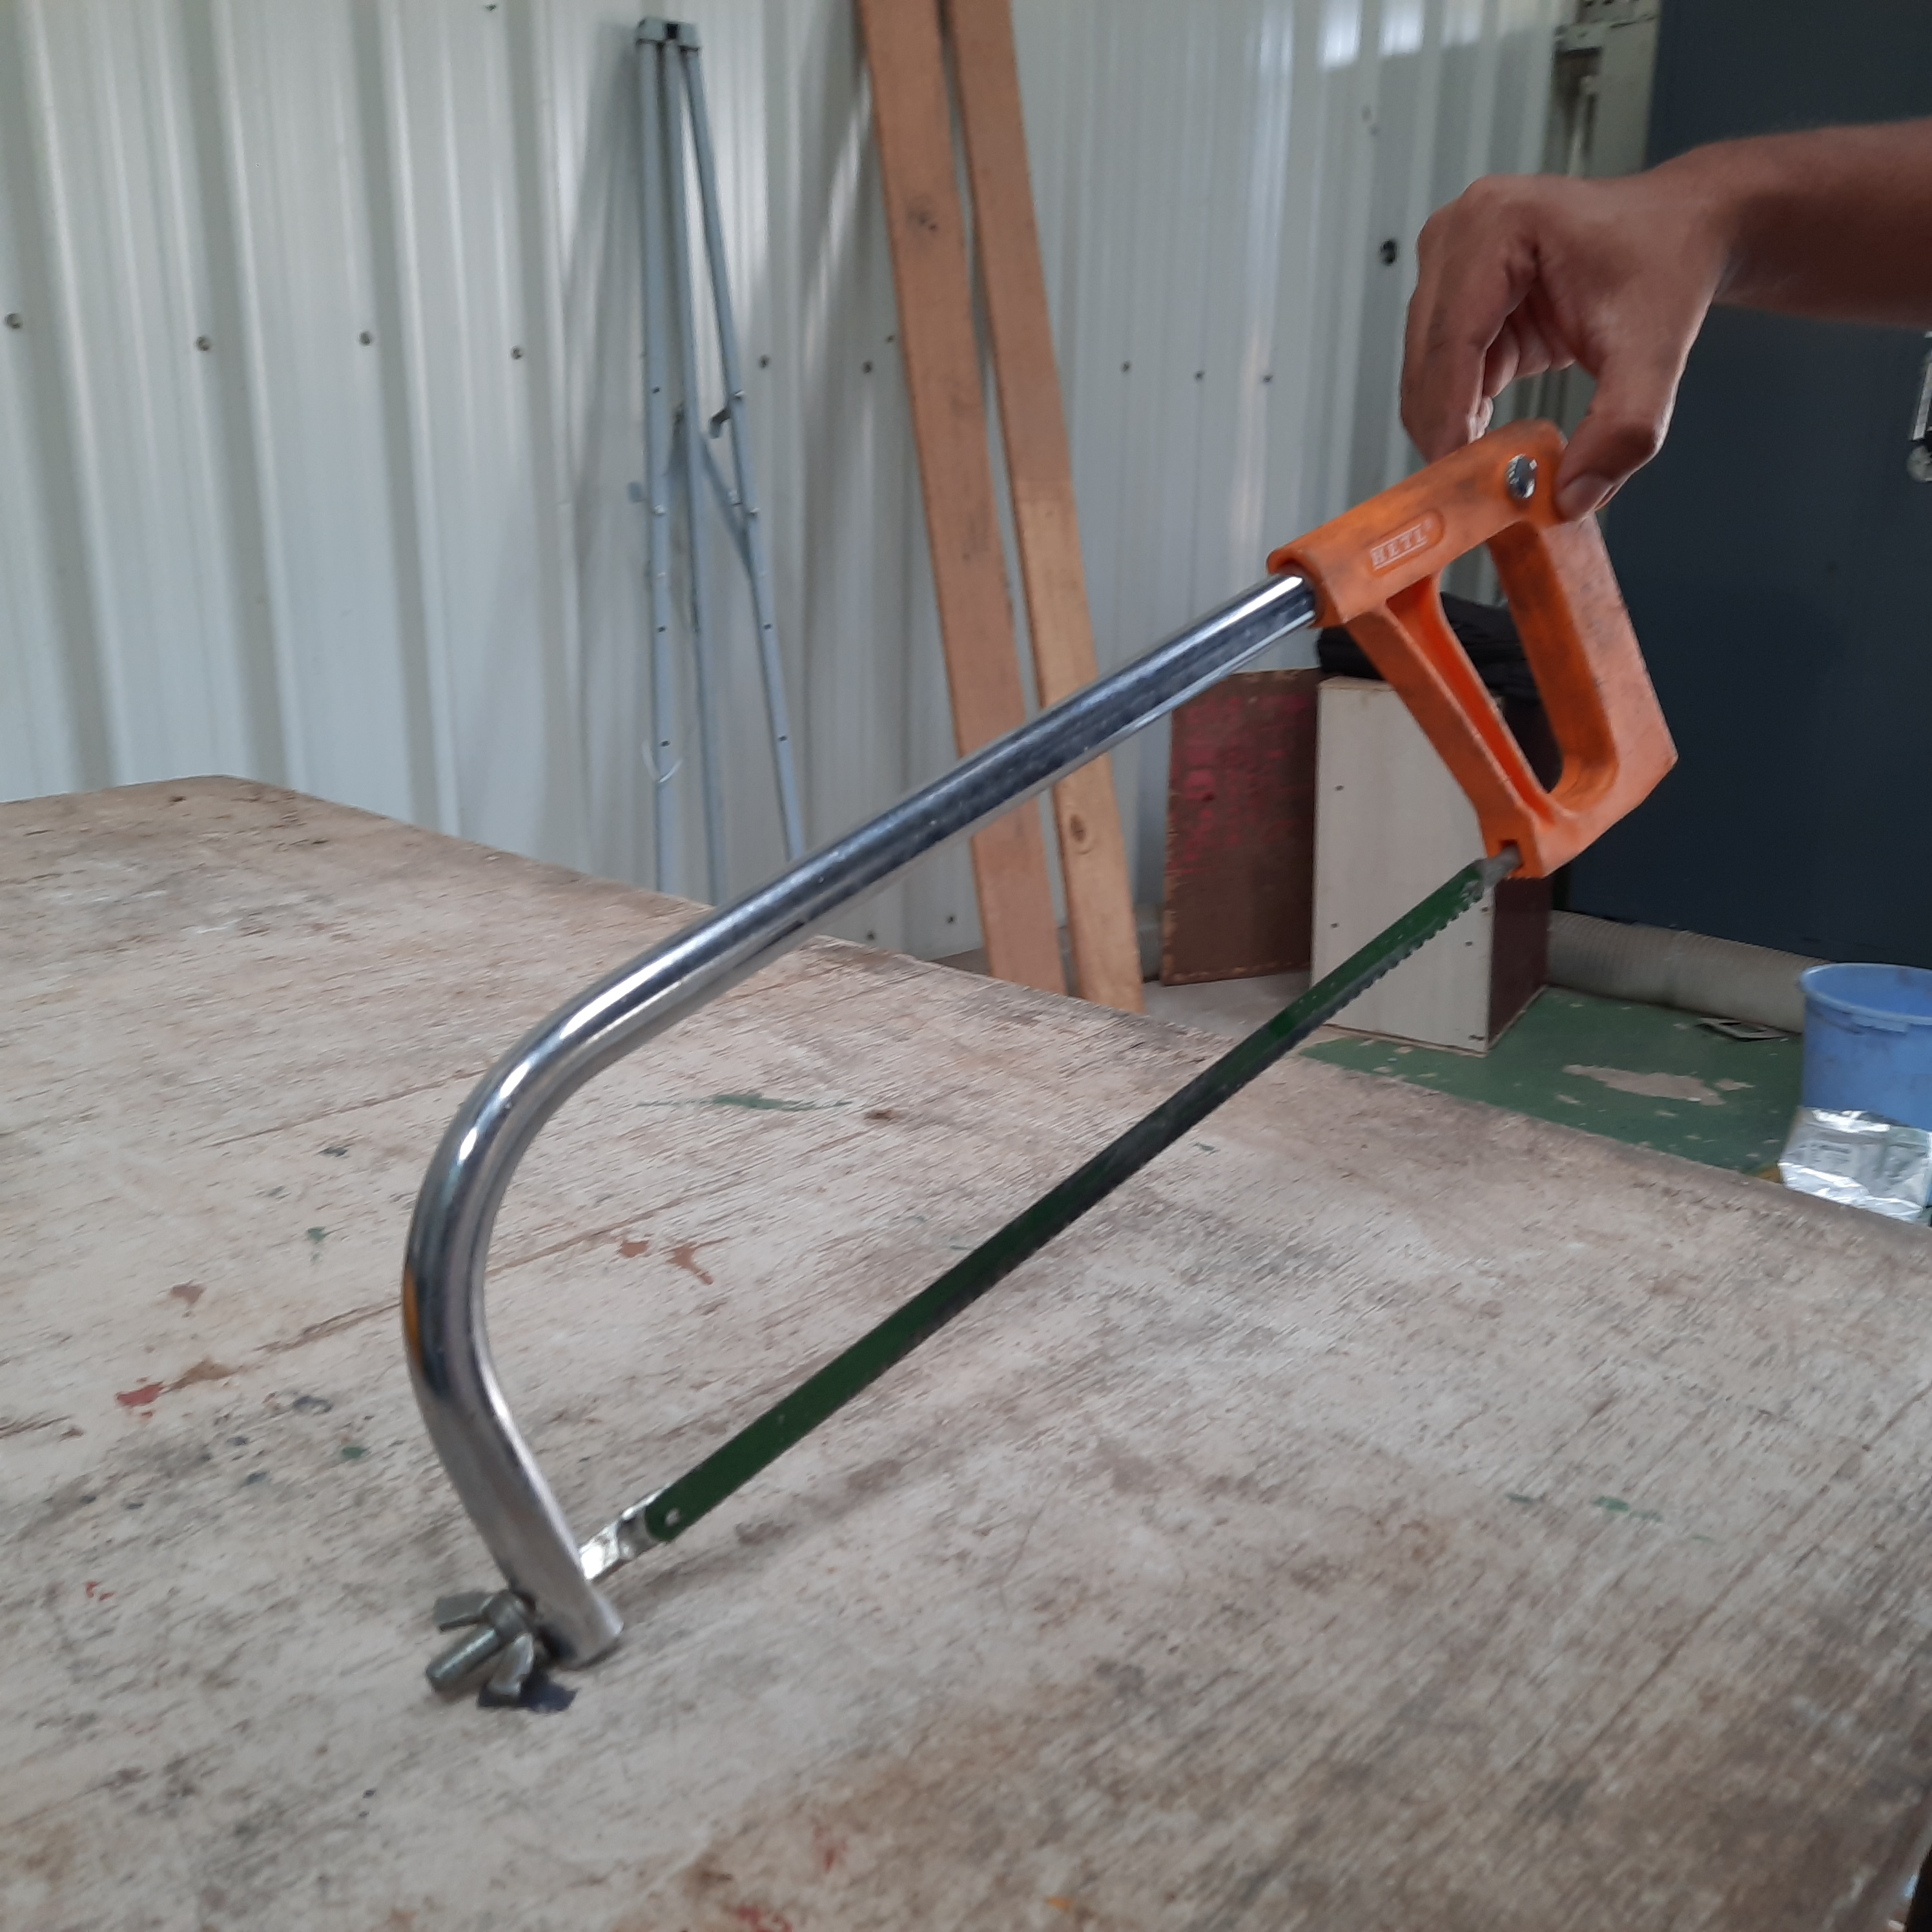Hexaframe: (347, 405, 1700, 1824)
